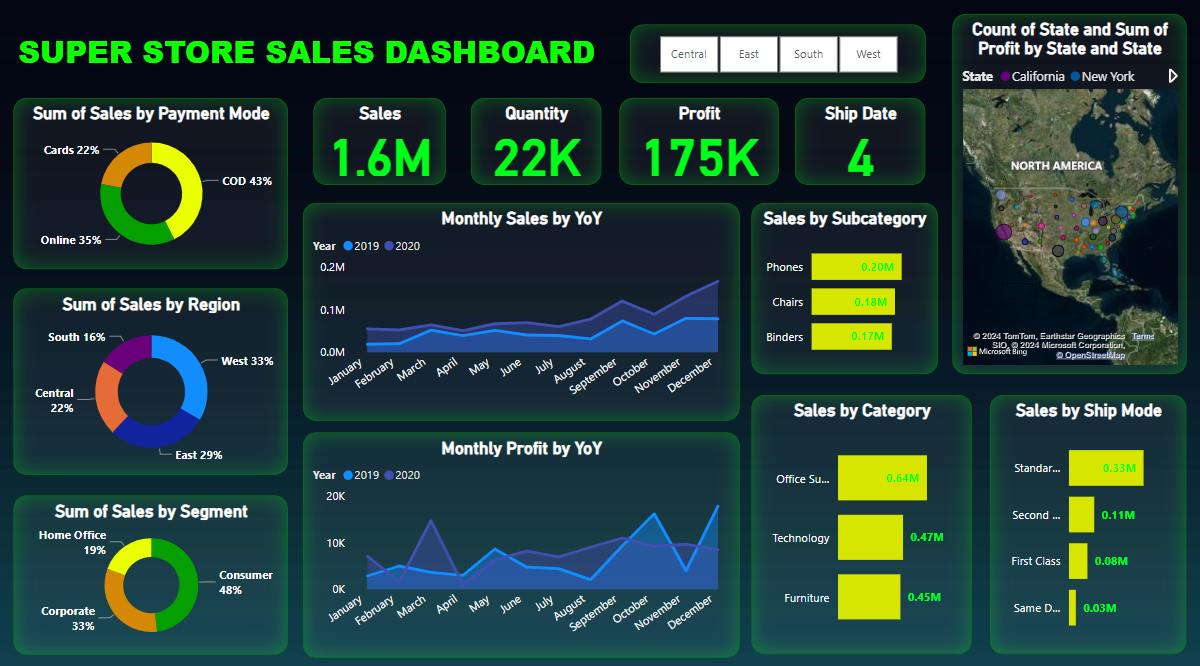

The dashboard page shown, as its layout file describes it:
{"tool":"powerbi","page":{"name":"Super Store Sales Dashboard","canvas":[1280,720],"ordinal":0},"visuals":[{"type":"clusteredBarChart","title":"Sales by Category","fields":{"Category":["SuperStore_Sales_Dataset.Category"],"Y":["Sum(SuperStore_Sales_Dataset.Sales)"]},"box":[799.5,422.8,233.6,275],"z":0},{"type":"clusteredBarChart","title":"Sales by Subcategory","fields":{"Category":["SuperStore_Sales_Dataset.Sub-Category"],"Y":["Sum(SuperStore_Sales_Dataset.Sales)"]},"box":[799.5,219.3,197.1,181.2],"z":1000},{"type":"clusteredBarChart","title":"Sales by Ship Mode","fields":{"Category":["SuperStore_Sales_Dataset.Ship Mode"],"Y":["Sum(SuperStore_Sales_Dataset.Sales)"]},"box":[1052.2,422.8,208.2,275],"z":2000},{"type":"areaChart","title":"Monthly Sales by YoY","fields":{"Y":["Sum(SuperStore_Sales_Dataset.Sales)"],"Category":["SuperStore_Sales_Dataset.Order Date.Variation.Date Hierarchy.Month","SuperStore_Sales_Dataset.Order Date.Variation.Date Hierarchy.Day"],"Series":["SuperStore_Sales_Dataset.Order Date.Variation.Date Hierarchy.Year"]},"box":[324.2,219.3,462.5,230.5],"z":3000},{"type":"areaChart","title":"Monthly Profit by YoY","fields":{"Category":["SuperStore_Sales_Dataset.Order Date.Variation.Date Hierarchy.Month","SuperStore_Sales_Dataset.Order Date.Variation.Date Hierarchy.Day"],"Series":["SuperStore_Sales_Dataset.Order Date.Variation.Date Hierarchy.Year"],"Y":["Sum(SuperStore_Sales_Dataset.Profit)"]},"box":[324.2,462.5,462.5,238.4],"z":4000},{"type":"map","fields":{"Category":["SuperStore_Sales_Dataset.State"],"Series":["SuperStore_Sales_Dataset.State"],"Size":["CountNonNull(SuperStore_Sales_Dataset.State)"]},"box":[1012.5,19.1,247.9,381.5],"z":5000},{"type":"donutChart","fields":{"Category":["SuperStore_Sales_Dataset.Segment"],"Y":["Sum(SuperStore_Sales_Dataset.Sales)"]},"box":[17.5,529.3,290.9,168.5],"z":6000},{"type":"donutChart","fields":{"Category":["SuperStore_Sales_Dataset.Payment Mode"],"Y":["Sum(SuperStore_Sales_Dataset.Sales)"]},"box":[17.5,108.1,290.9,181.2],"z":7000},{"type":"slicer","fields":{"Values":["SuperStore_Sales_Dataset.Region"]},"box":[670.7,30.2,313.1,62],"z":8000},{"type":"textbox","box":[17.5,30.2,635.8,62],"z":9000},{"type":"card","title":"Quantity","fields":{"Values":["Sum(SuperStore_Sales_Dataset.Quantity)"]},"box":[502.3,108.1,138.3,92.2],"z":10000},{"type":"card","title":"Profit","fields":{"Values":["Sum(SuperStore_Sales_Dataset.Profit)"]},"box":[659.6,108.1,168.5,92.2],"z":11000},{"type":"card","title":"Ship Date","fields":{"Values":["Avg(SuperStore_Sales_Dataset.AvgDelivery)"]},"box":[845.6,108.1,138.3,92.2],"z":12000},{"type":"card","title":"Sales","fields":{"Values":["Sum(SuperStore_Sales_Dataset.Sales)"]},"box":[335.4,108.1,139.9,92.2],"z":13000},{"type":"donutChart","fields":{"Y":["Sum(SuperStore_Sales_Dataset.Sales)"],"Category":["SuperStore_Sales_Dataset.Region"]},"box":[17.5,309.9,290.9,197.1],"z":13001}]}

Visuals, with their boxes in screenshot pixels (x1, y1, x2, y2), scaled from the page's 1280x720 canvas onto the 1200x666 screenshot:
"Sales by Category" clusteredBarChart: <box>750,391,969,645</box>
"Sales by Subcategory" clusteredBarChart: <box>750,203,934,370</box>
"Sales by Ship Mode" clusteredBarChart: <box>986,391,1182,645</box>
"Monthly Sales by YoY" areaChart: <box>304,203,738,416</box>
"Monthly Profit by YoY" areaChart: <box>304,428,738,648</box>
map - SuperStore_Sales_Dataset.State x SuperStore_Sales_Dataset.State: <box>949,18,1182,371</box>
donutChart - SuperStore_Sales_Dataset.Segment x Sum(SuperStore_Sales_Dataset.Sales): <box>16,490,289,645</box>
donutChart - SuperStore_Sales_Dataset.Payment Mode x Sum(SuperStore_Sales_Dataset.Sales): <box>16,100,289,268</box>
slicer - SuperStore_Sales_Dataset.Region: <box>629,28,922,85</box>
textbox: <box>16,28,612,85</box>
"Quantity" card: <box>471,100,601,185</box>
"Profit" card: <box>618,100,776,185</box>
"Ship Date" card: <box>793,100,922,185</box>
"Sales" card: <box>314,100,446,185</box>
donutChart - Sum(SuperStore_Sales_Dataset.Sales) x SuperStore_Sales_Dataset.Region: <box>16,287,289,469</box>
